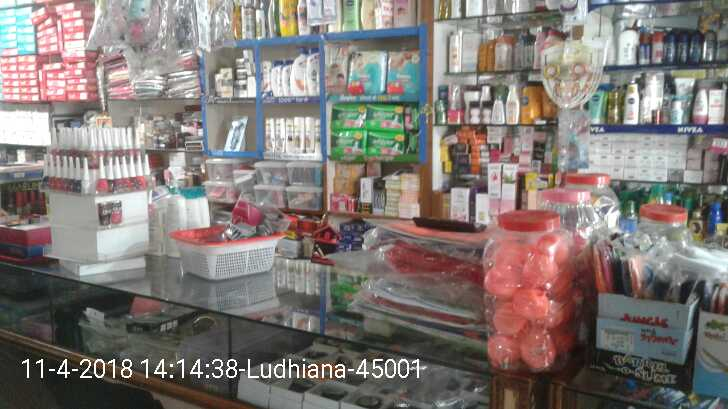venus: (226, 115, 249, 151)
